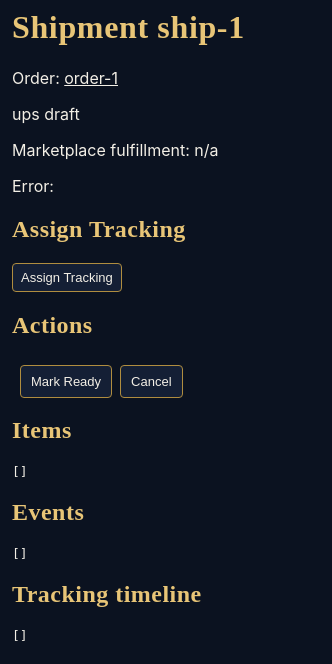
Test case: Shipment detail lifecycle actions (Sprint 60B) › shows a loading state while submitting
The width and height of the screenshot is (332, 664).
What coordinates should you click on to do the following:
click the button "Mark Ready"
I would click on:
 (66, 381)
Its box is [20, 364, 112, 398].
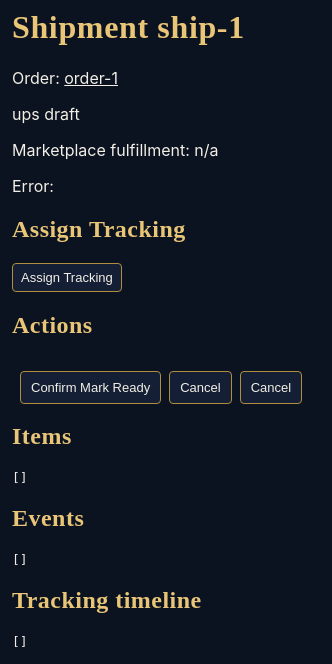
What coordinates should you click on to do the following:
click the button "Confirm Mark Ready"
I would click on:
 (91, 387)
Its box is [20, 370, 161, 404].
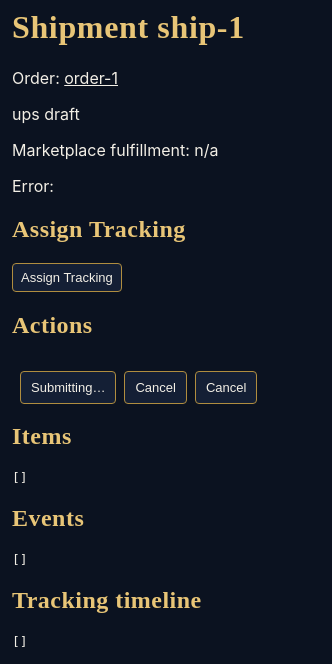
Now the button "Submitting…" is shown, box [20, 370, 116, 404]
